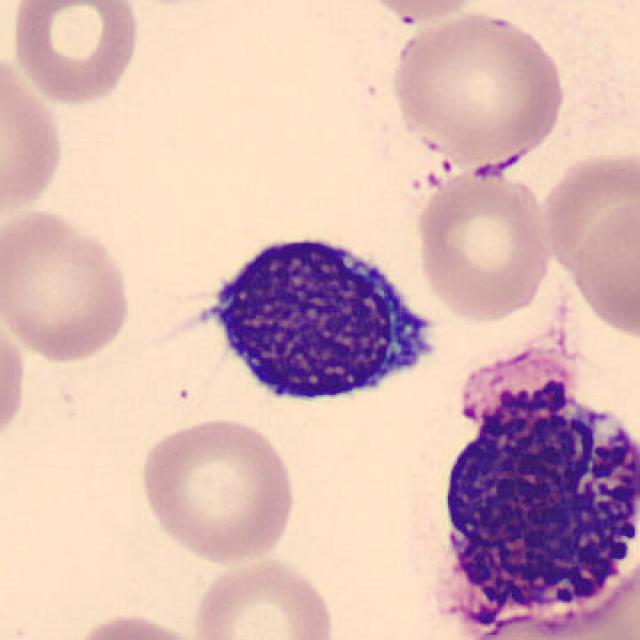Basophil: (410, 326, 640, 640)
Lymphocyte: (190, 218, 448, 418)
RBC: (386, 7, 569, 169), (133, 413, 299, 566), (410, 164, 554, 324), (0, 202, 137, 366), (7, 0, 144, 108), (535, 144, 638, 284), (186, 552, 340, 640), (0, 48, 68, 224), (564, 194, 638, 342), (546, 550, 640, 640), (453, 608, 628, 640), (64, 610, 208, 640), (0, 310, 30, 453), (350, 0, 492, 25)
